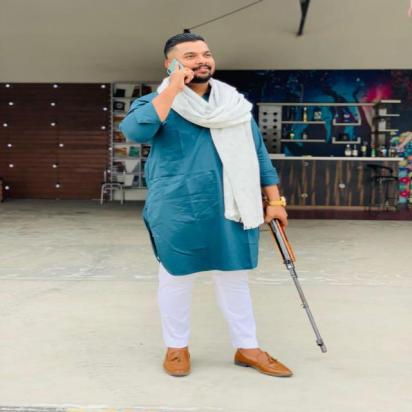Gun: (260, 189, 330, 355)
